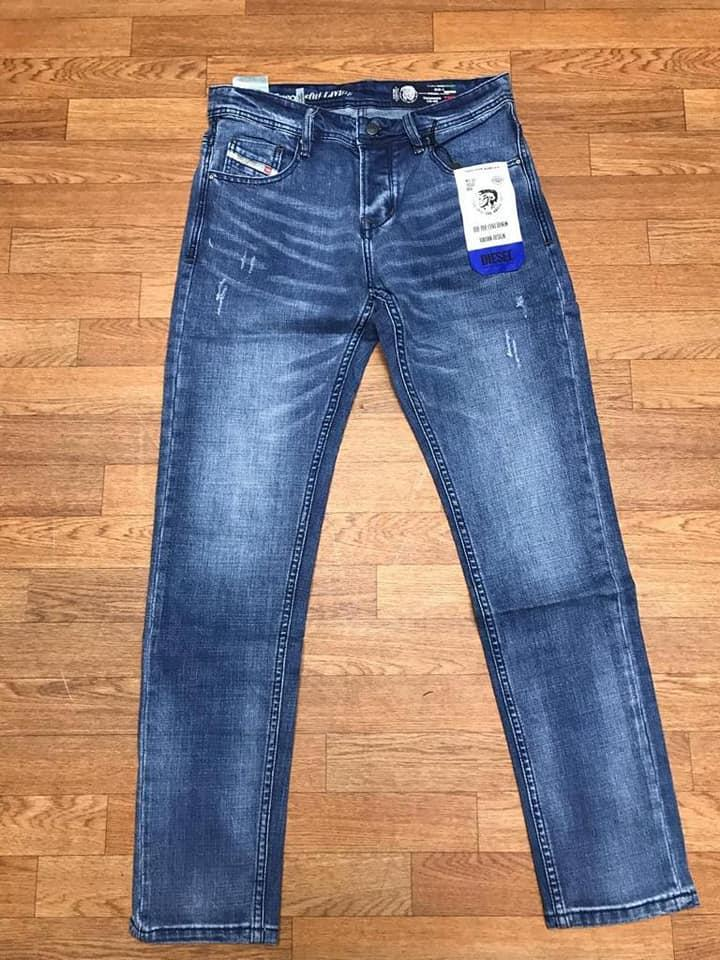jeans: (122, 57, 705, 960)
